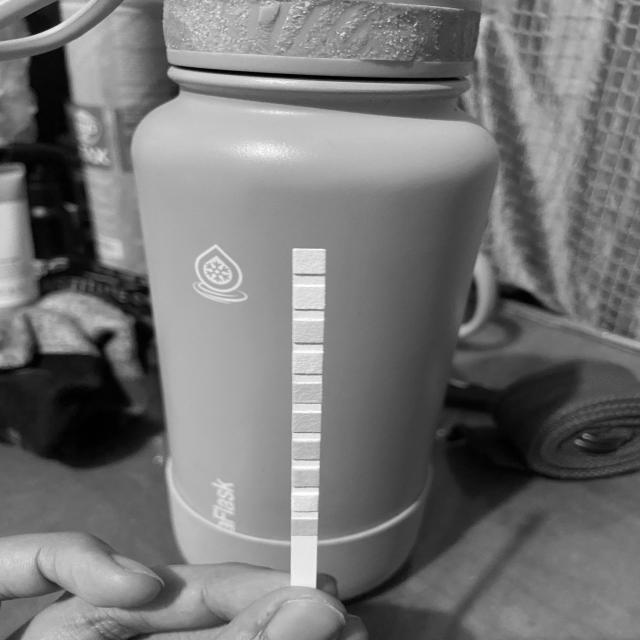Bilirubin: (292, 494, 318, 512)
Blood: (292, 413, 321, 432)
Glucose: (291, 520, 317, 535)
Ketone: (292, 469, 320, 486)
Leukocytes: (294, 250, 326, 274)
Nitrite: (293, 286, 325, 308)
Protein: (292, 352, 322, 373)
SpGravity: (292, 440, 321, 459)
Urobilinogen: (292, 320, 324, 343)
background: (0, 0, 640, 640)
pH: (292, 383, 322, 403)
strip: (291, 248, 325, 586)
